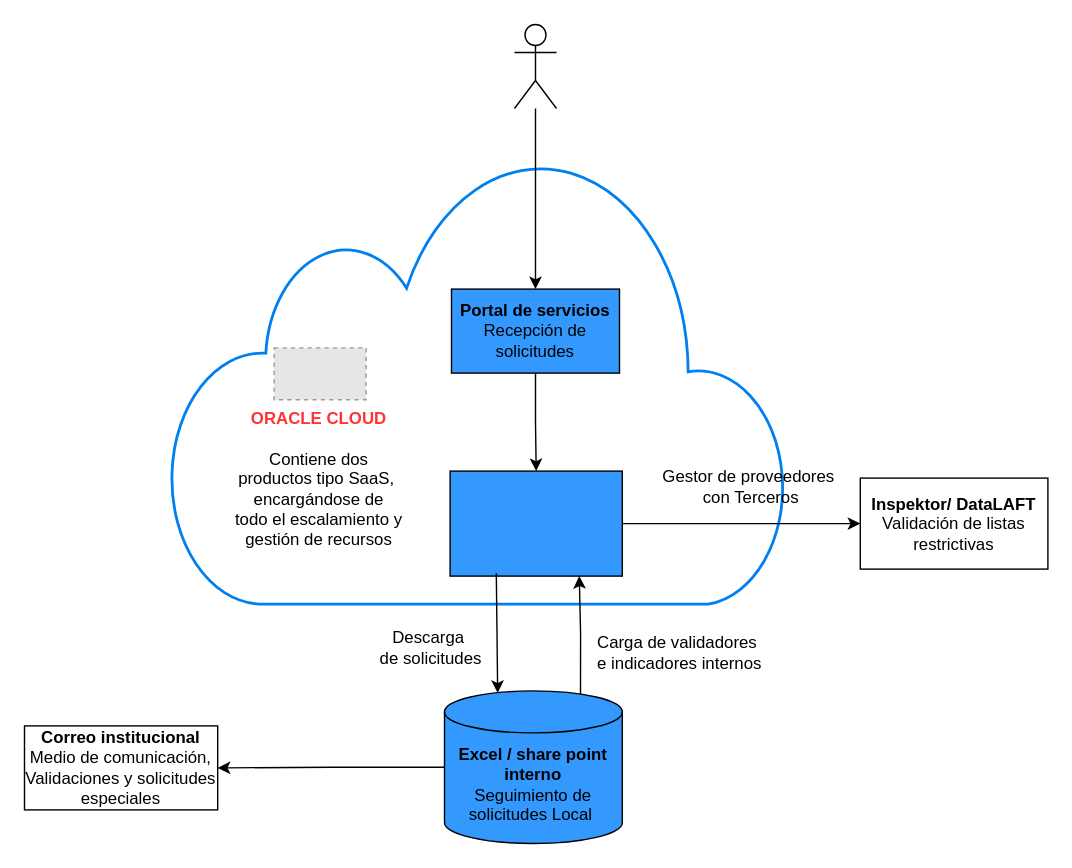
Image size: 1072x868. Some labels were removed from this diagram. Grey dashed boxes stand in for pictures. The shapes that lost their labels are listed below. From the top down, each one's centre as x and y in pixels, then its label:
At pixel 534 65: "Unidad solicitante".
At pixel 535 523: "Siga financiero ERP Manejo de contabilidad, presupuesto y reportes".
